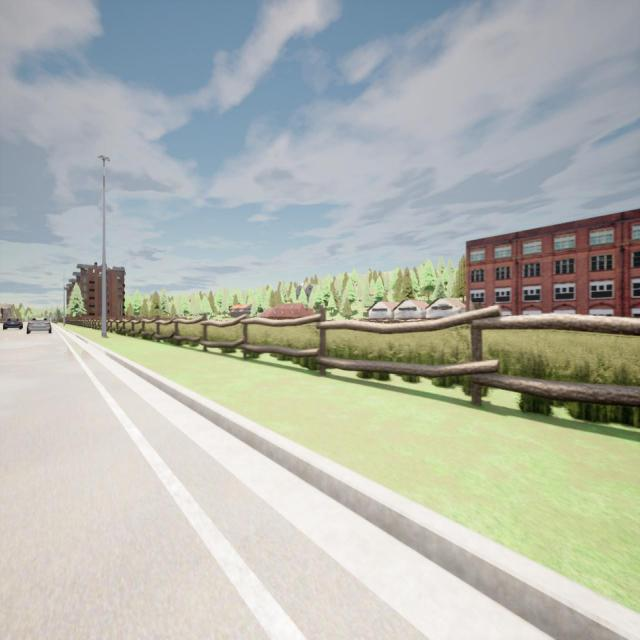Vehicle: (27, 315, 52, 335), (3, 317, 23, 330)
